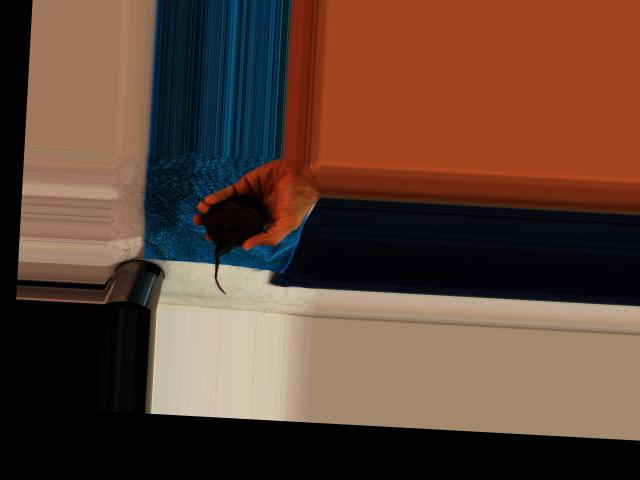beet: (199, 192, 264, 295)
